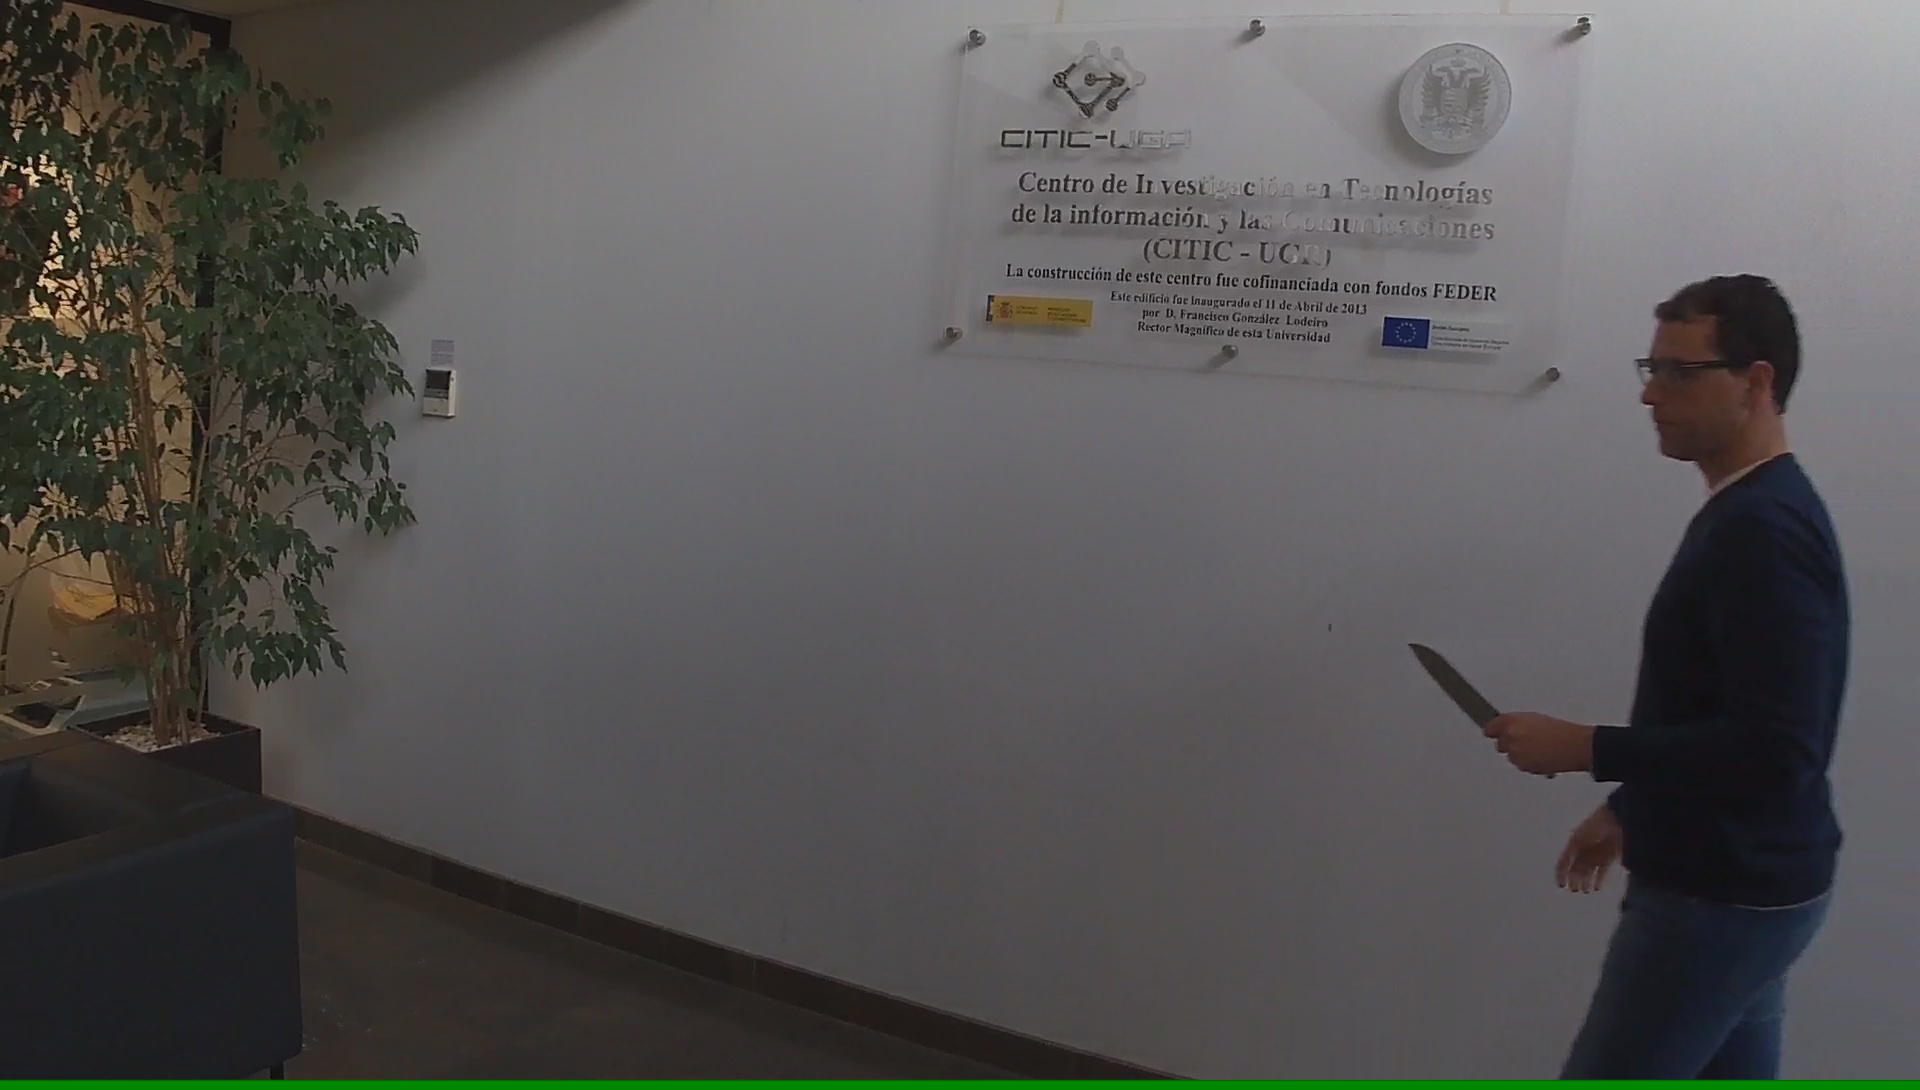knife: (1404, 637, 1561, 786)
